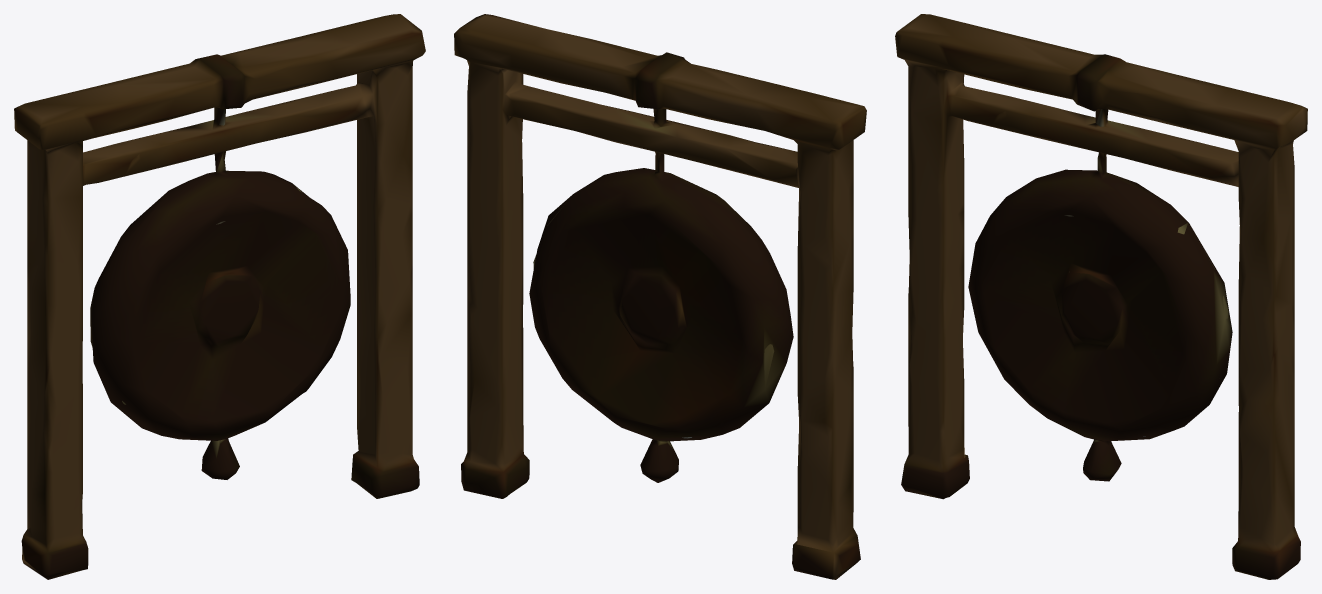
The model's file is gen3d-gong-lod0.glb.
3 views of the same model, side by side, from view 1: azimuth 30°, elevation 25°; view 2: azimuth 150°, elevation 25°; view 3: azimuth 330°, elevation 25° (orthographic).
Parts seen in each view (by area): view 1: part_0; view 2: part_0; view 3: part_0.
Boxes of the visible parts, <box> form: part_0: <box>14,14,425,579</box>; part_0: <box>454,14,866,579</box>; part_0: <box>895,14,1307,579</box>.
Bounding box in the file's own units: 0.8716 × 0.9977 × 0.1354.
